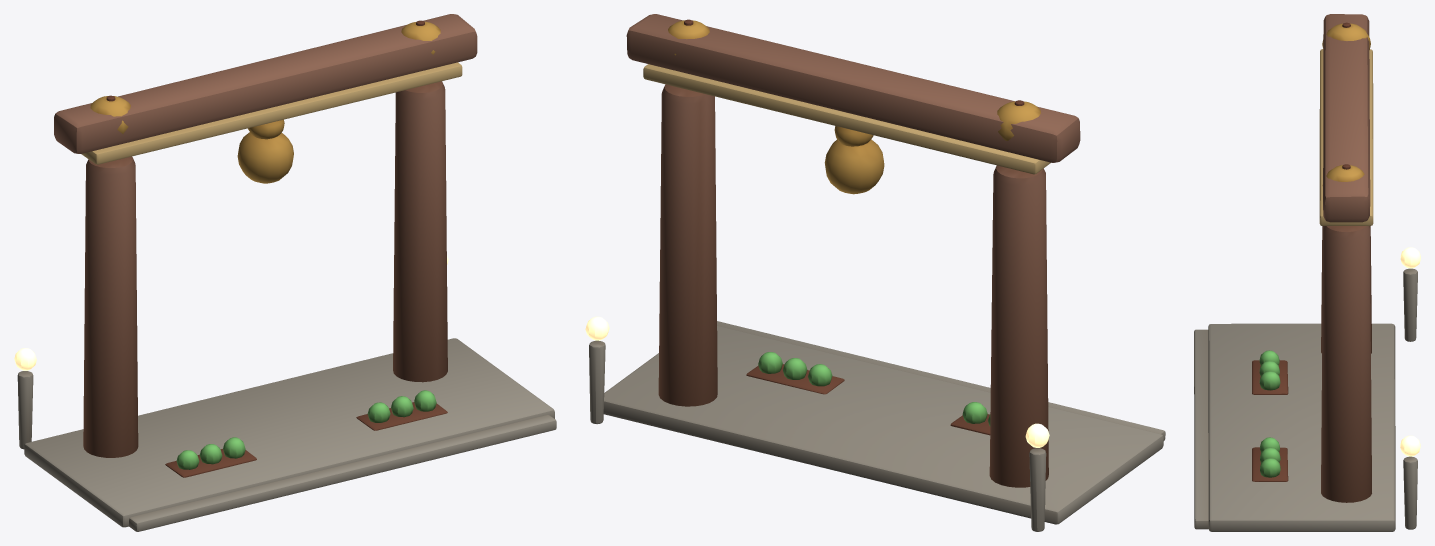
3 views of the same model, side by side, from view 1: azimuth 30°, elevation 25°; view 2: azimuth 150°, elevation 25°; view 3: azimuth 270°, elevation 25° (orthographic). The views are drawn at different scales.
Visible parts, largest first — view 1: gate_6f145494; view 2: gate_6f145494; view 3: gate_6f145494.
Part boxes in pixels (<box>): gate_6f145494: <box>14,14,556,531</box>; gate_6f145494: <box>585,14,1165,531</box>; gate_6f145494: <box>1194,14,1420,531</box>.
Size of the model in its own units: 5.26 by 4.21 by 2.55.
